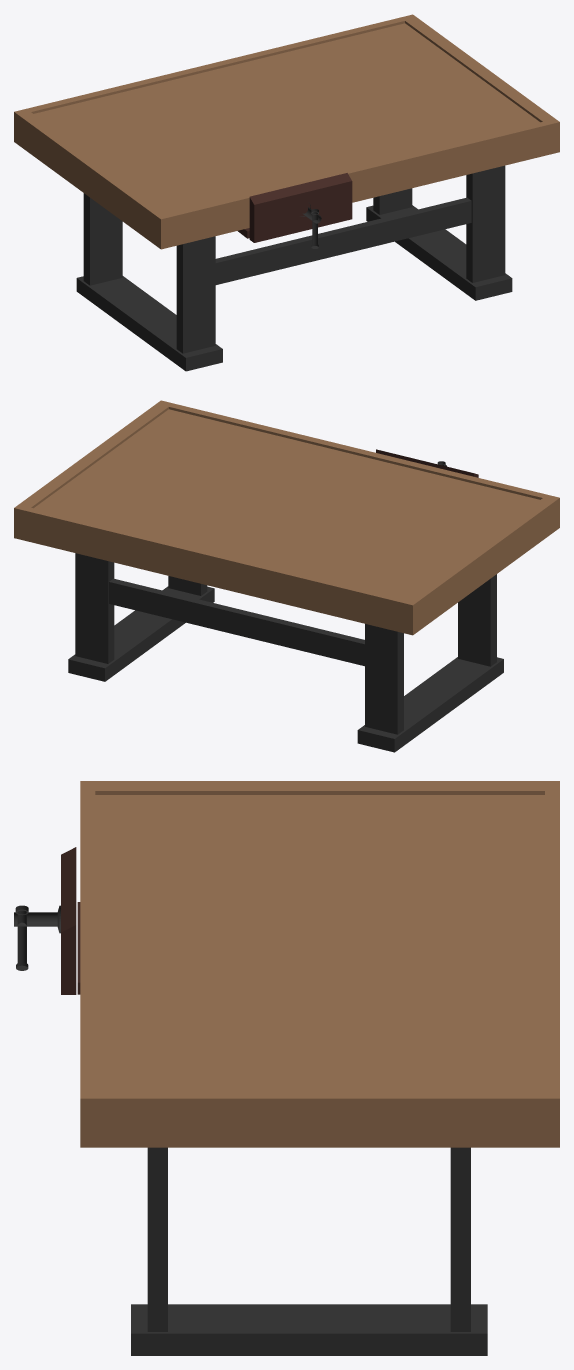
The model's file is workBench.fbx.
3 views of the same model, one above another, from view 1: azimuth 30°, elevation 25°; view 2: azimuth 150°, elevation 25°; view 3: azimuth 270°, elevation 25° (orthographic). The views are drawn at different scales.
Visible parts, largest first — view 1: Cube.001, Cube.002, Cube.003; view 2: Cube.001, Cube.002, Cube.003; view 3: Cube.001, Cube.002, Cube.003.
Boxes of the visible parts, <box> form: Cube.001: <box>14,14,559,249</box>; Cube.002: <box>76,165,512,371</box>; Cube.003: <box>238,173,352,248</box>; Cube.001: <box>14,400,559,635</box>; Cube.002: <box>68,553,503,752</box>; Cube.003: <box>376,449,478,477</box>; Cube.001: <box>80,781,559,1147</box>; Cube.002: <box>131,1147,487,1355</box>; Cube.003: <box>14,847,80,994</box>.
Bounding box in the file's own units: 842 × 354 × 612.
